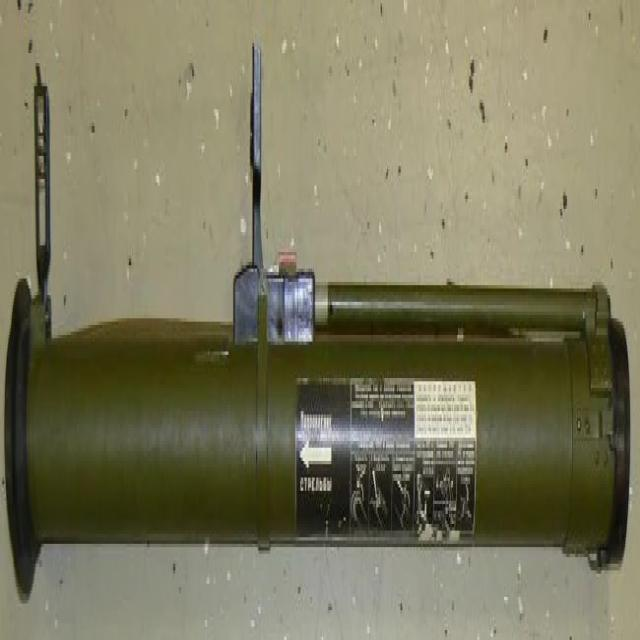bazooka: (7, 32, 633, 610)
